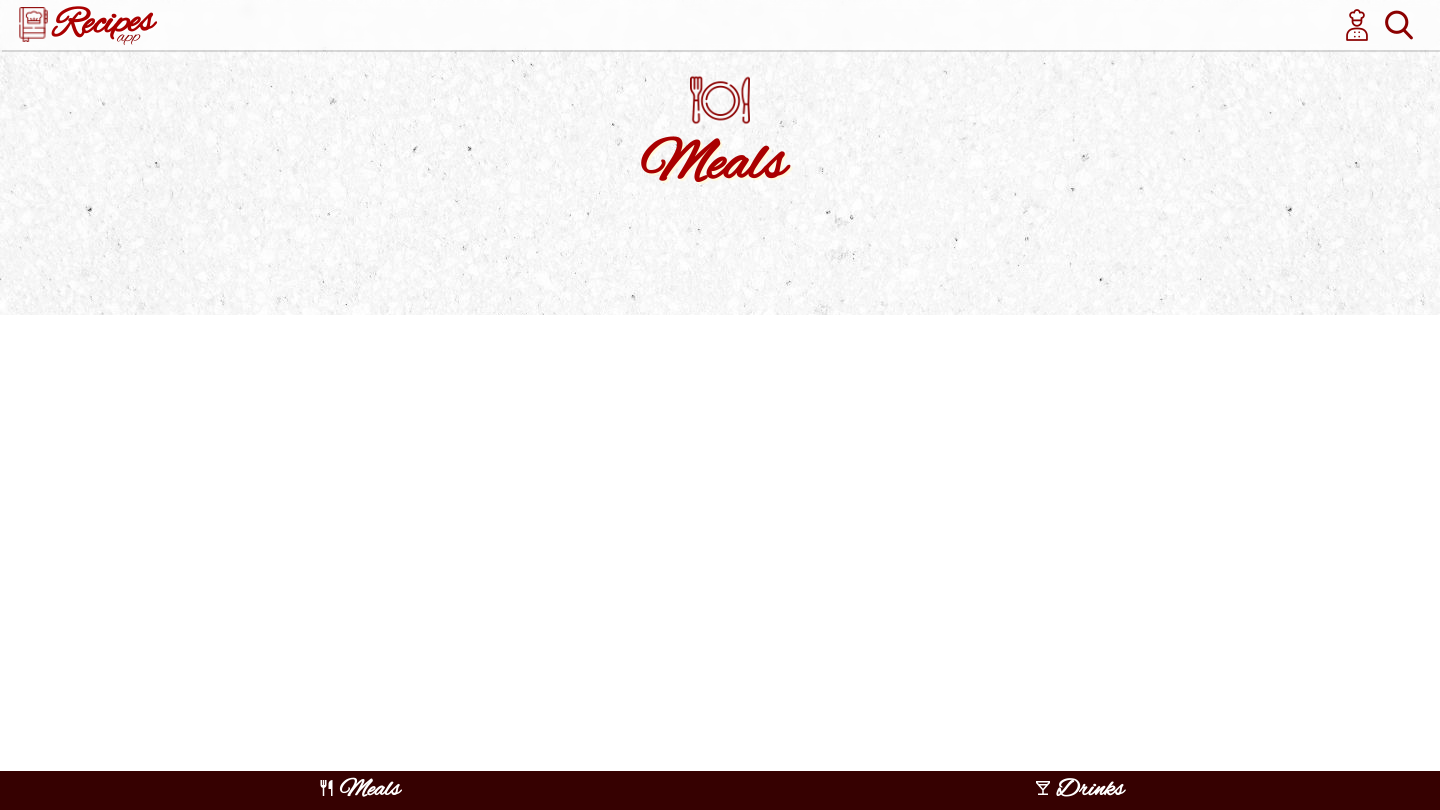
Test: A aplicação possui um componente Header › Verifica se após clicar no botão de perfil a rota muda para a tela de perfil /profile e o título do header muda para "Profile"
The image size is (1440, 810).
Check: the heading with test id "page-title" reads "Meals", box [640, 128, 785, 204]
Step 1. Click the button with test id "profile-top-btn" → (1357, 25), box [1336, 4, 1378, 46]
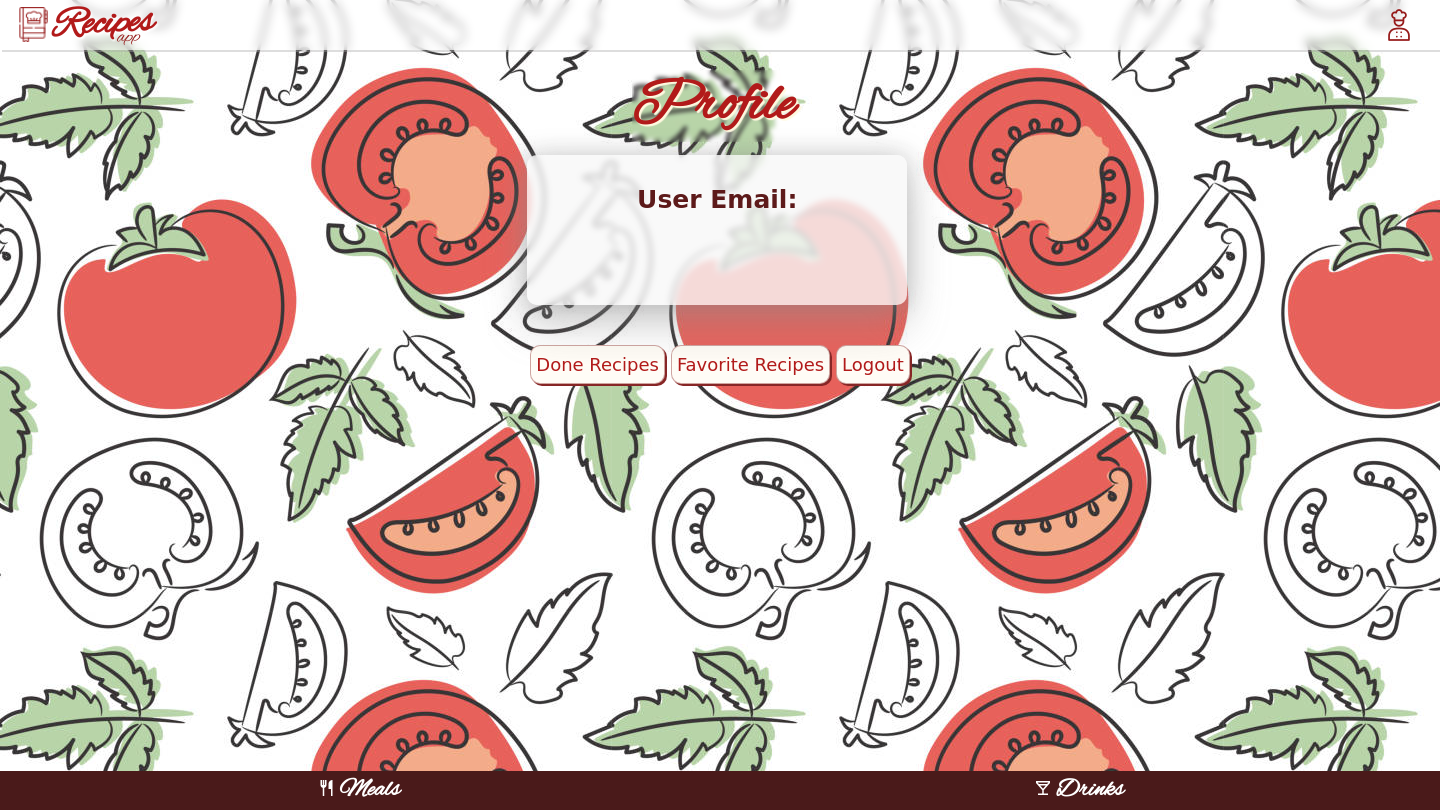
Check: the heading with test id "page-title" reads "Profile", box [632, 68, 794, 144]
